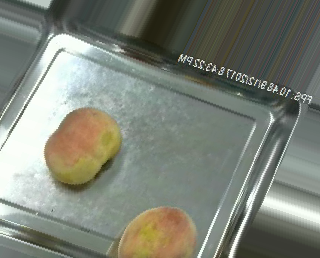Peach: (44, 106, 123, 185), (114, 205, 198, 257)
